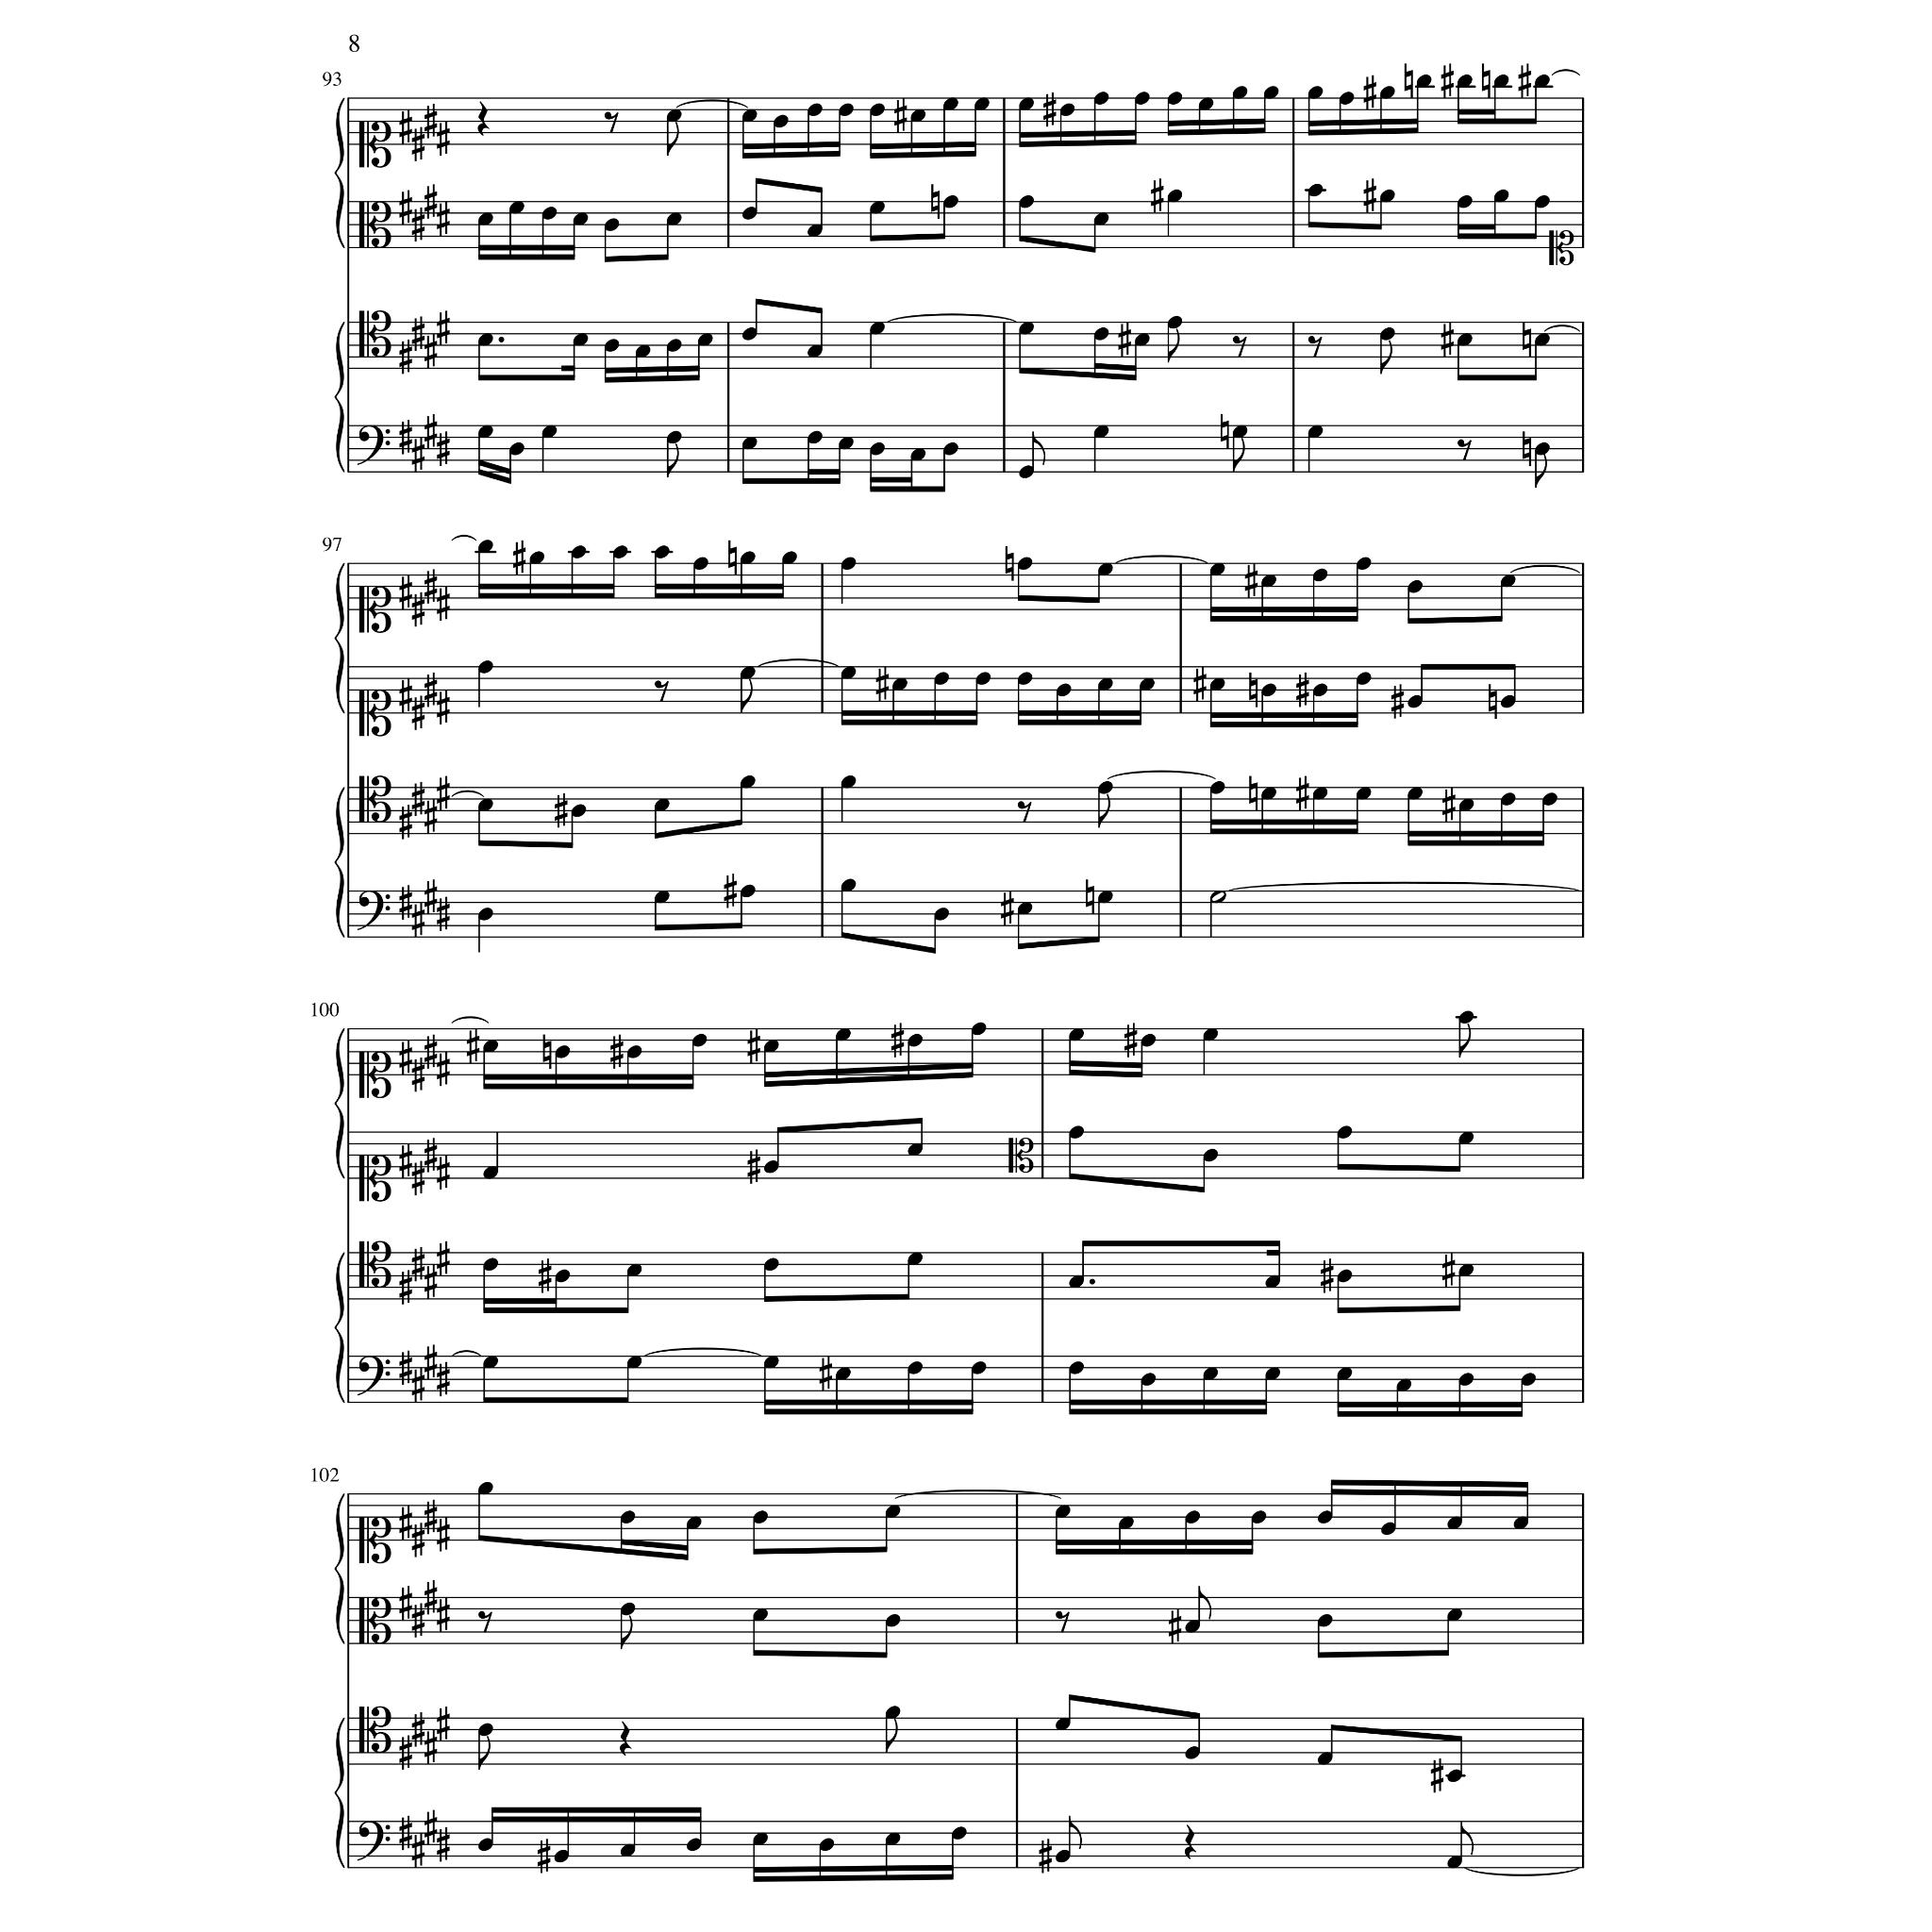brace: (334, 97, 345, 249), (334, 787, 345, 939), (334, 563, 345, 715), (334, 1251, 345, 1403), (334, 1028, 345, 1180), (334, 1718, 345, 1870), (334, 1493, 345, 1645), (334, 322, 345, 472)
fClef: (357, 425, 391, 465), (357, 890, 391, 931), (357, 1355, 391, 1396), (357, 1821, 391, 1861)
flag8thDown: (1168, 329, 1180, 364), (1233, 437, 1246, 472), (1536, 453, 1548, 488), (1380, 340, 1392, 375), (667, 442, 679, 478), (478, 1736, 490, 1771), (885, 1718, 897, 1753), (667, 122, 679, 156), (1099, 794, 1111, 828), (741, 679, 754, 713), (1460, 1024, 1472, 1058), (621, 1615, 633, 1649)
flag8thUp: (1198, 1585, 1212, 1621), (1069, 1815, 1083, 1851), (1031, 432, 1046, 465), (1460, 1822, 1474, 1856)
noteheadBlack: (1355, 557, 1373, 571), (1355, 672, 1373, 686), (1355, 786, 1373, 800), (1231, 425, 1247, 439), (1166, 189, 1182, 203), (1198, 97, 1214, 111), (1307, 184, 1323, 198), (1307, 425, 1323, 439), (1134, 92, 1150, 106), (1134, 333, 1150, 347), (1093, 92, 1109, 106), (1093, 212, 1109, 226), (1093, 425, 1109, 439), (1166, 92, 1182, 106), (1534, 333, 1550, 347), (1534, 442, 1550, 456), (1534, 195, 1550, 209), (1493, 74, 1509, 88), (1493, 189, 1509, 203), (1534, 74, 1550, 88), (1338, 92, 1353, 106), (1380, 189, 1396, 203), (1458, 333, 1474, 347), (1415, 74, 1431, 88), (1458, 74, 1474, 88), (1458, 195, 1474, 209), (635, 345, 651, 359), (571, 212, 587, 226), (571, 333, 587, 347), (697, 333, 713, 347), (741, 437, 757, 451), (665, 212, 681, 226), (508, 442, 524, 456), (541, 425, 557, 439), (478, 212, 494, 226), (478, 333, 494, 347), (478, 425, 494, 439), (909, 448, 925, 462), (869, 442, 885, 456), (1019, 195, 1035, 209), (975, 97, 991, 111), (1019, 97, 1035, 111), (1019, 465, 1035, 479), (941, 97, 957, 111), (941, 195, 957, 209), (941, 442, 957, 456), (773, 115, 789, 129), (807, 225, 823, 239), (807, 345, 823, 359), (839, 437, 855, 451), (1311, 786, 1327, 800), (1261, 786, 1277, 800), (1097, 780, 1113, 794), (1097, 890, 1113, 904), (1097, 678, 1113, 692), (1097, 563, 1113, 577), (1208, 678, 1224, 692), (1208, 780, 1224, 794), (1208, 563, 1224, 577), (1138, 678, 1154, 692), (1500, 695, 1516, 709), (1458, 798, 1474, 812), (1407, 786, 1422, 800), (1407, 695, 1422, 709), (612, 545, 628, 559), (653, 545, 669, 559), (570, 545, 586, 559), (740, 885, 755, 899), (740, 775, 755, 789), (740, 665, 755, 679), (694, 557, 709, 571), (653, 890, 669, 904), (653, 798, 669, 812), (478, 798, 494, 812), (478, 908, 494, 922), (478, 660, 494, 674), (892, 678, 908, 692), (934, 672, 950, 686), (934, 908, 950, 922), (1017, 672, 1033, 686), (1017, 557, 1033, 571), (975, 672, 991, 686), (840, 557, 856, 571), (840, 665, 856, 679), (840, 775, 856, 789), (840, 879, 856, 893), (1203, 1028, 1219, 1042), (1139, 1033, 1155, 1047), (1203, 1148, 1219, 1162), (1069, 1361, 1085, 1375), (1069, 1028, 1085, 1042), (1458, 1263, 1474, 1277), (1458, 1131, 1474, 1145), (626, 1355, 642, 1369), (626, 1263, 642, 1277), (483, 1355, 499, 1369), (483, 1256, 499, 1270), (483, 1166, 499, 1180), (908, 1361, 924, 1375), (908, 1143, 924, 1157), (908, 1033, 924, 1047), (835, 1028, 851, 1042), (970, 1361, 985, 1375), (763, 1355, 778, 1369), (763, 1256, 778, 1270), (1118, 1516, 1134, 1530), (1316, 1614, 1332, 1628), (1513, 1516, 1529, 1530), (1316, 1752, 1332, 1766), (1447, 1767, 1463, 1782), (1447, 1608, 1463, 1622), (1447, 1516, 1463, 1530), (885, 1831, 901, 1845), (885, 1614, 901, 1628), (885, 1504, 901, 1518), (1054, 1504, 1070, 1518), (950, 1826, 966, 1840), (752, 1608, 768, 1622), (686, 1516, 702, 1530), (752, 1831, 768, 1845), (1184, 1746, 1201, 1759), (1184, 1621, 1201, 1633), (1184, 1511, 1201, 1523), (692, 1033, 706, 1047), (1231, 87, 1247, 99), (1166, 317, 1182, 329), (1263, 87, 1279, 99), (1307, 87, 1323, 99), (1060, 104, 1076, 117), (1093, 327, 1109, 340), (1380, 327, 1396, 340), (1380, 87, 1396, 99), (603, 340, 619, 352), (603, 219, 619, 232), (741, 207, 757, 219), (741, 110, 757, 122), (665, 110, 681, 122), (665, 340, 681, 352), (665, 432, 681, 444), (508, 202, 524, 214), (541, 207, 557, 219), (741, 327, 757, 340), (909, 110, 925, 122), (869, 322, 885, 334), (869, 104, 885, 117), (869, 202, 885, 214), (1019, 322, 1035, 334), (807, 104, 823, 117), (839, 104, 855, 117), (807, 432, 823, 444), (1311, 570, 1327, 582), (1311, 685, 1327, 697), (1261, 685, 1277, 697), (1261, 575, 1277, 587), (1054, 685, 1070, 697), (1541, 793, 1557, 805), (1500, 793, 1516, 805), (1500, 575, 1516, 587), (1407, 580, 1422, 593), (570, 805, 586, 817), (529, 552, 545, 564), (740, 552, 755, 564), (478, 540, 494, 552), (1017, 902, 1033, 915), (782, 552, 798, 564), (1139, 1373, 1155, 1385), (1265, 1368, 1281, 1380), (1265, 1276, 1281, 1288), (1203, 1368, 1219, 1380), (1069, 1276, 1085, 1288), (1069, 1127, 1085, 1139), (1520, 1373, 1536, 1385), (1396, 1380, 1412, 1392), (1336, 1368, 1352, 1380), (1336, 1270, 1352, 1283), (1336, 1127, 1352, 1139), (1458, 1373, 1474, 1385), (1458, 1012, 1474, 1024), (554, 1270, 570, 1283), (554, 1046, 570, 1058), (626, 1046, 642, 1058), (483, 1040, 499, 1053), (908, 1253, 924, 1265), (835, 1368, 851, 1380), (970, 1023, 985, 1035), (763, 1040, 778, 1053), (763, 1161, 778, 1173), (1251, 1511, 1267, 1523), (1316, 1511, 1332, 1523), (1380, 1523, 1396, 1536), (1447, 1856, 1463, 1868), (554, 1851, 570, 1863), (478, 1838, 494, 1851), (619, 1844, 635, 1856), (619, 1603, 635, 1615), (619, 1511, 635, 1523), (478, 1723, 494, 1736), (478, 1483, 494, 1495), (885, 1706, 901, 1718), (1054, 1851, 1070, 1863), (1054, 1718, 1070, 1730), (752, 1511, 768, 1523), (686, 1838, 702, 1851), (819, 1838, 833, 1851)
noteheadHalf: (1210, 890, 1226, 904)
rest8th: (1231, 336, 1247, 359), (1307, 336, 1323, 359), (1456, 439, 1472, 462), (603, 111, 619, 134), (1054, 1610, 1070, 1633), (655, 679, 669, 702), (478, 1610, 492, 1633), (1017, 801, 1031, 823)
restQuarter: (476, 101, 490, 136), (1184, 1824, 1196, 1859), (619, 1721, 632, 1757)
